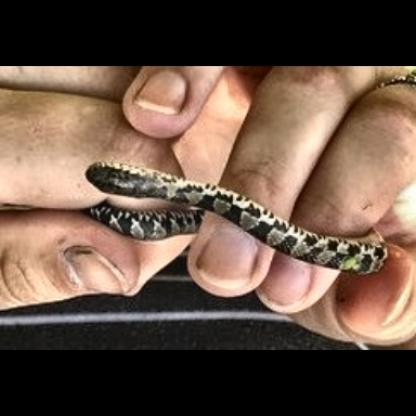Snake: (80, 154, 386, 276)
